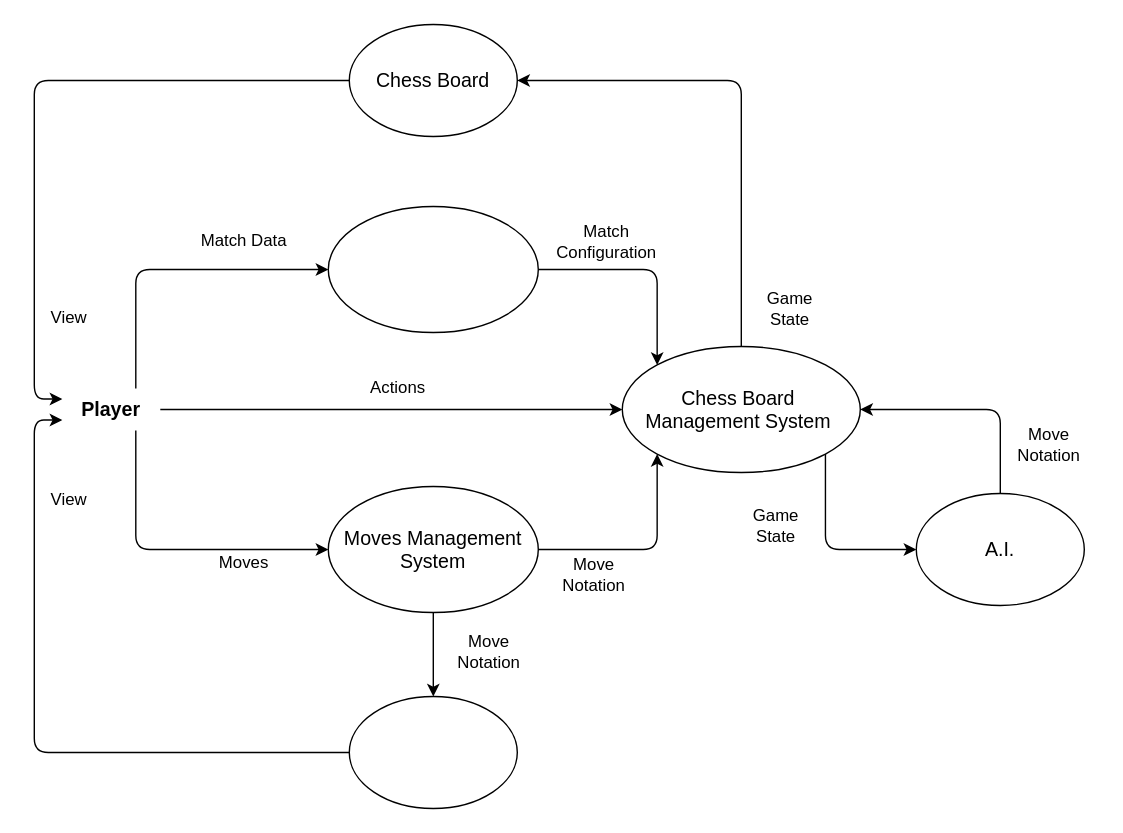
The diagram is 1123 pixels wide and 833 high, and some of its shapes have lost their labels. Here are the shapes that lost their labels. From the top down, the centre of each, then its label:
At pixel 432 268: "Game Configuration System".
At pixel 432 751: "Game Report".
